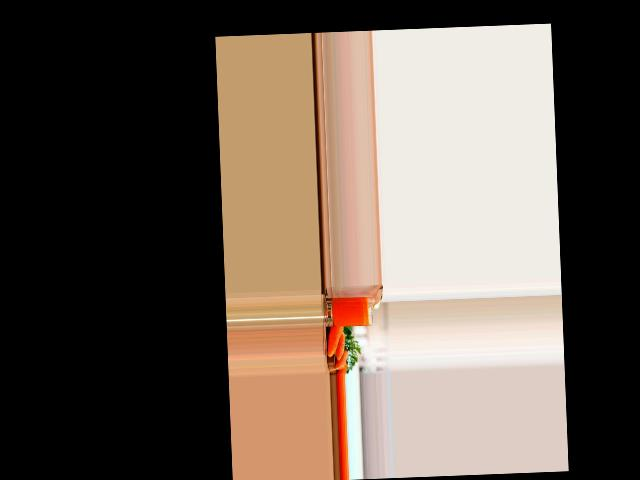carrot: (336, 344, 347, 369)
